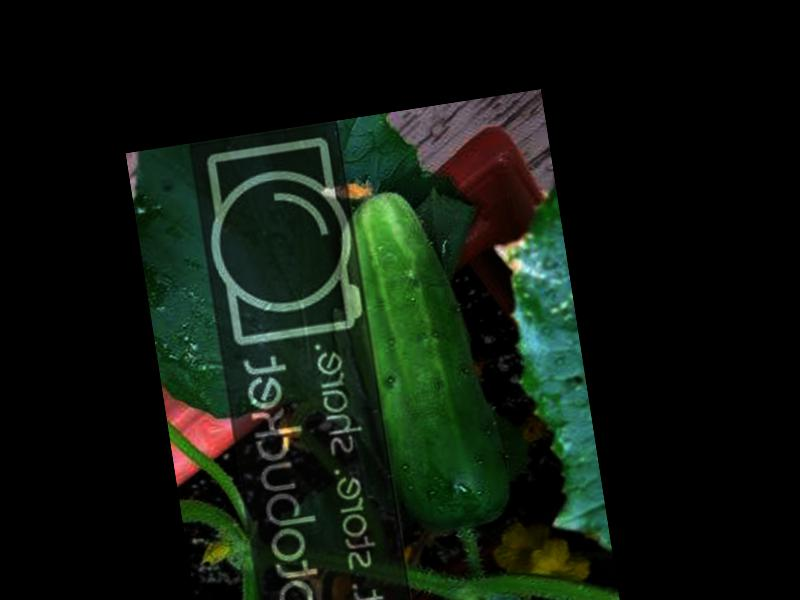Cucumber: (327, 176, 516, 538)
